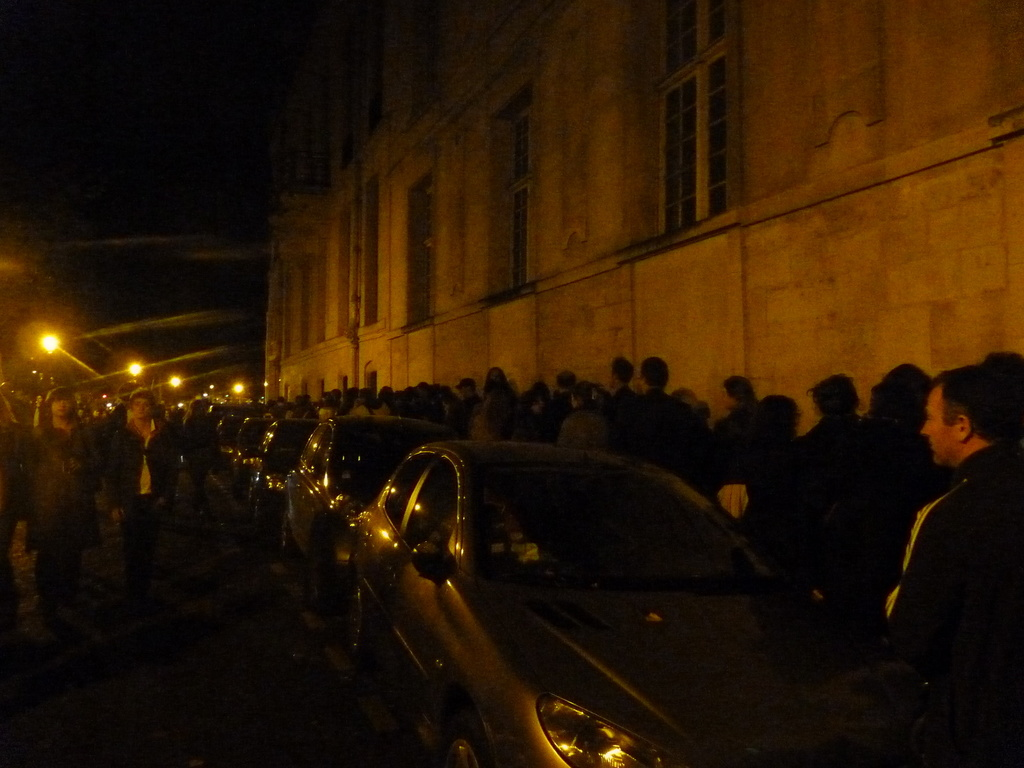Human-face: (919, 384, 960, 467), (130, 397, 154, 422), (51, 399, 69, 420)
